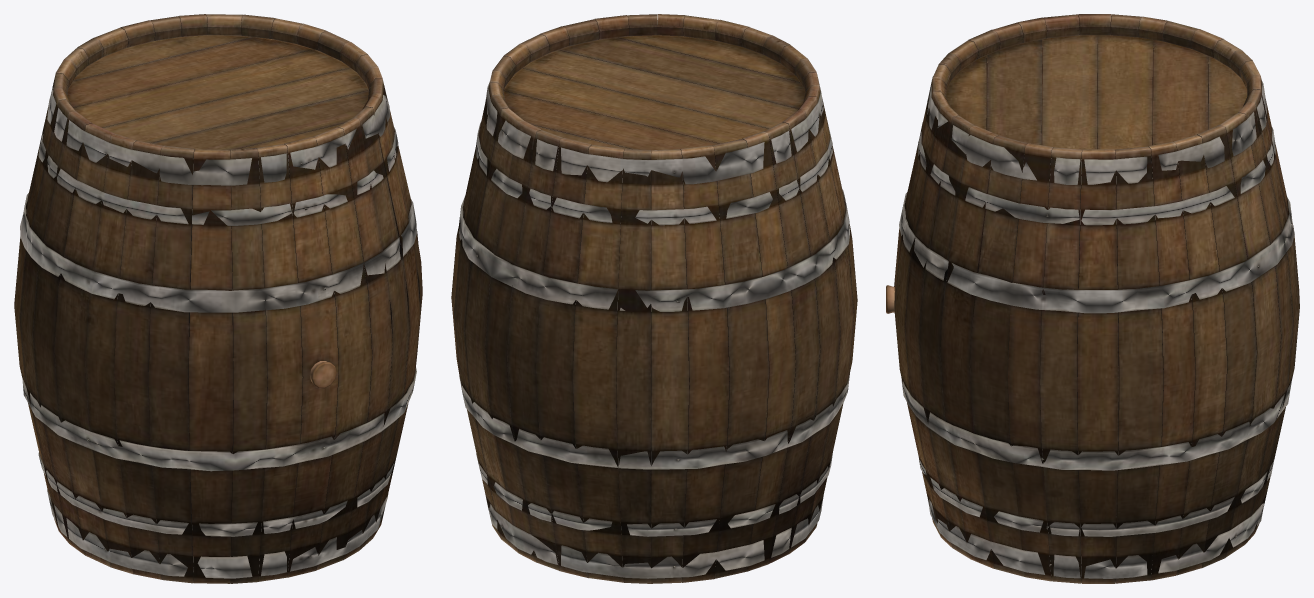
The model's file is tonneau.glb.
The picture shows the model from 3 angles, left to right: view 1: azimuth 30°, elevation 25°; view 2: azimuth 150°, elevation 25°; view 3: azimuth 270°, elevation 25°; orthographic projection.
Parts seen in each view (by area): view 1: wine_barrel_01, wine_barrel_01_Lid, wine_barrel_01_bung; view 2: wine_barrel_01, wine_barrel_01_Lid; view 3: wine_barrel_01, wine_barrel_01_Lid.
Boxes of the visible parts, x1,y1,x2,y2 form: wine_barrel_01: (14, 14, 422, 583); wine_barrel_01_Lid: (67, 35, 368, 149); wine_barrel_01_bung: (310, 361, 336, 388); wine_barrel_01: (451, 14, 857, 583); wine_barrel_01_Lid: (503, 35, 805, 152); wine_barrel_01: (894, 14, 1299, 583); wine_barrel_01_Lid: (946, 35, 1247, 149).
Size of the model in its own units: 0.7419 by 0.8695 by 0.7561.
1 material, 1 textured.
